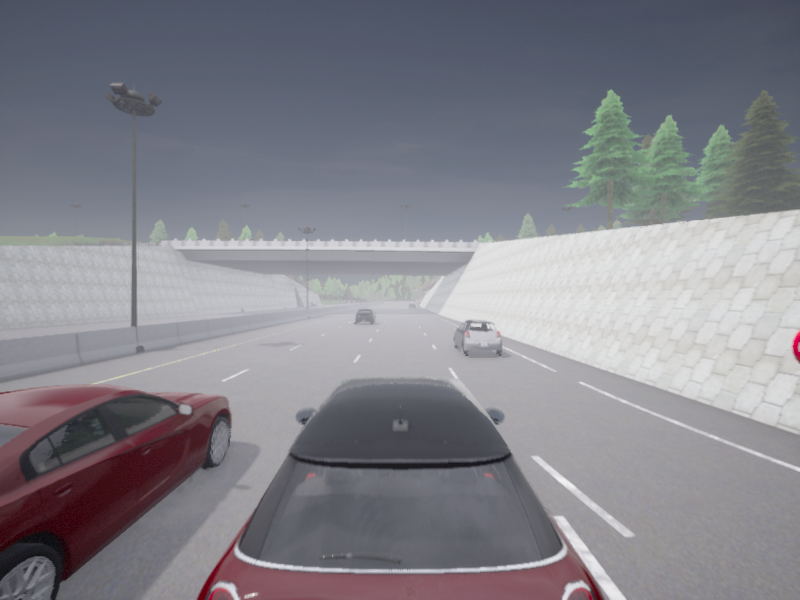vehicle: (196, 375, 604, 599), (0, 385, 230, 599), (454, 320, 501, 355), (355, 309, 376, 323), (408, 303, 414, 307)
